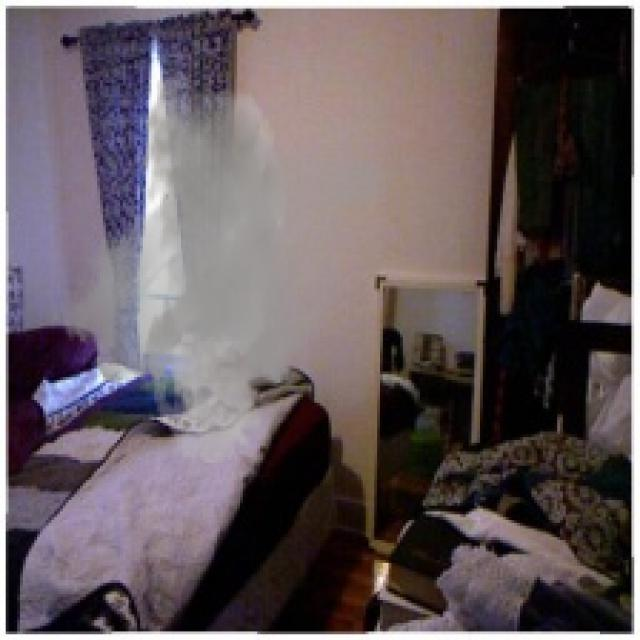smoke: (52, 71, 397, 466)
